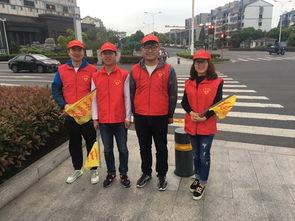up: (174, 47, 225, 204), (126, 34, 175, 192), (51, 38, 102, 187), (90, 40, 136, 190)
